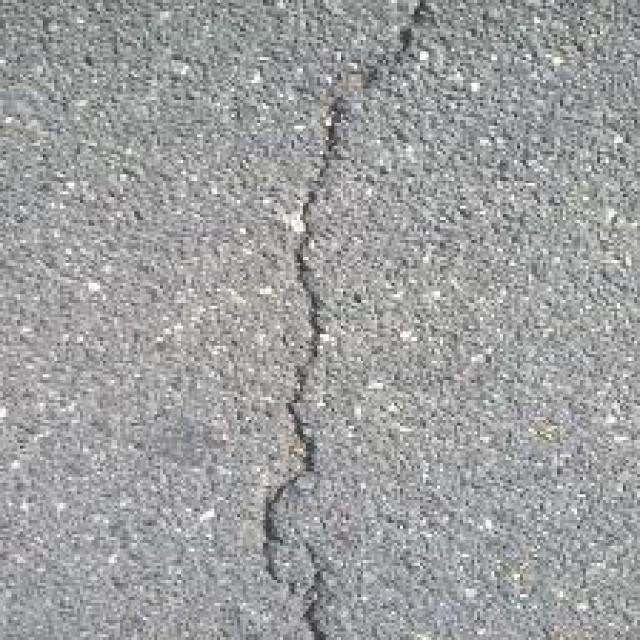crack: (202, 0, 446, 640)
